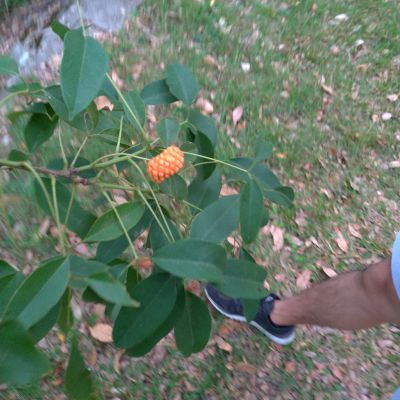eggs: (141, 143, 188, 181)
